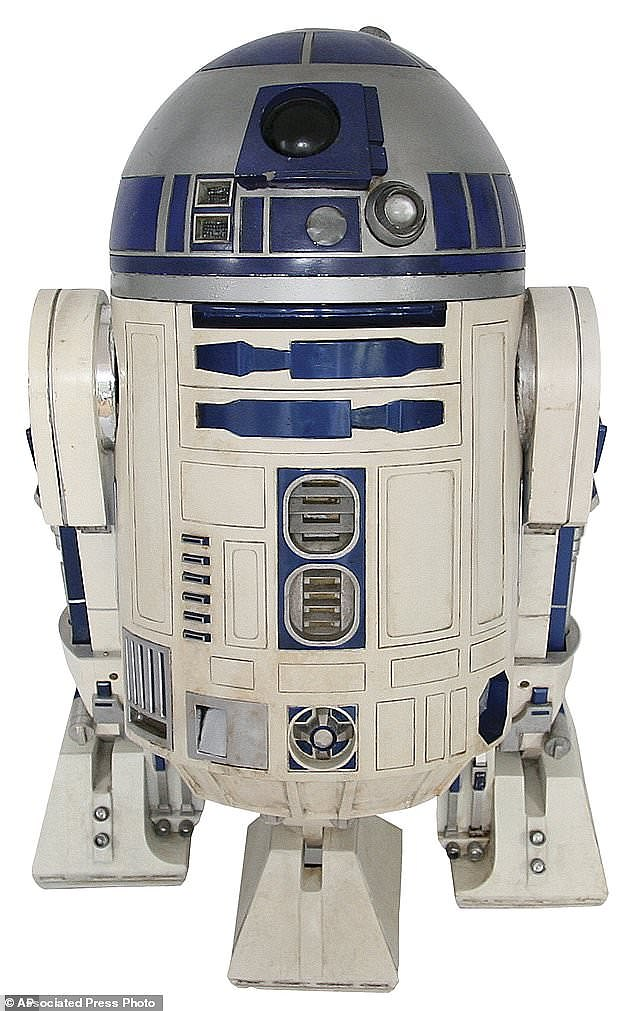r2d2: (29, 25, 606, 980)
